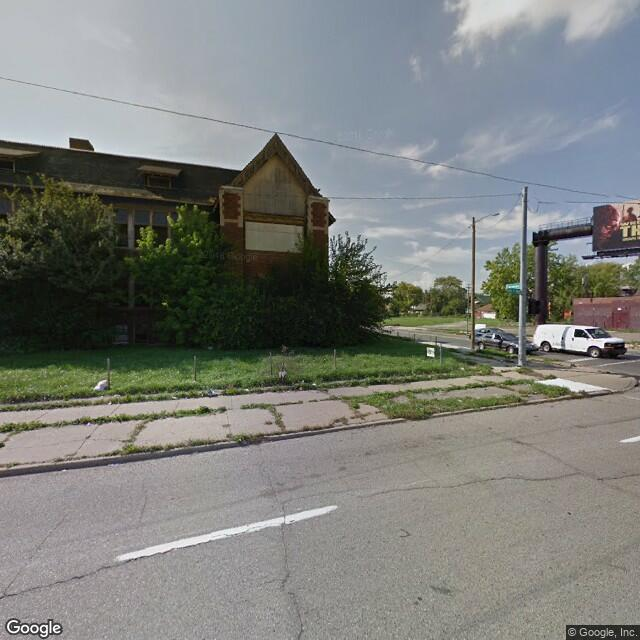litter: (274, 367, 288, 380), (94, 379, 109, 390), (60, 467, 70, 473), (459, 365, 465, 373)
